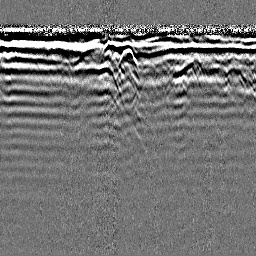cavity: (117, 44, 139, 70)
